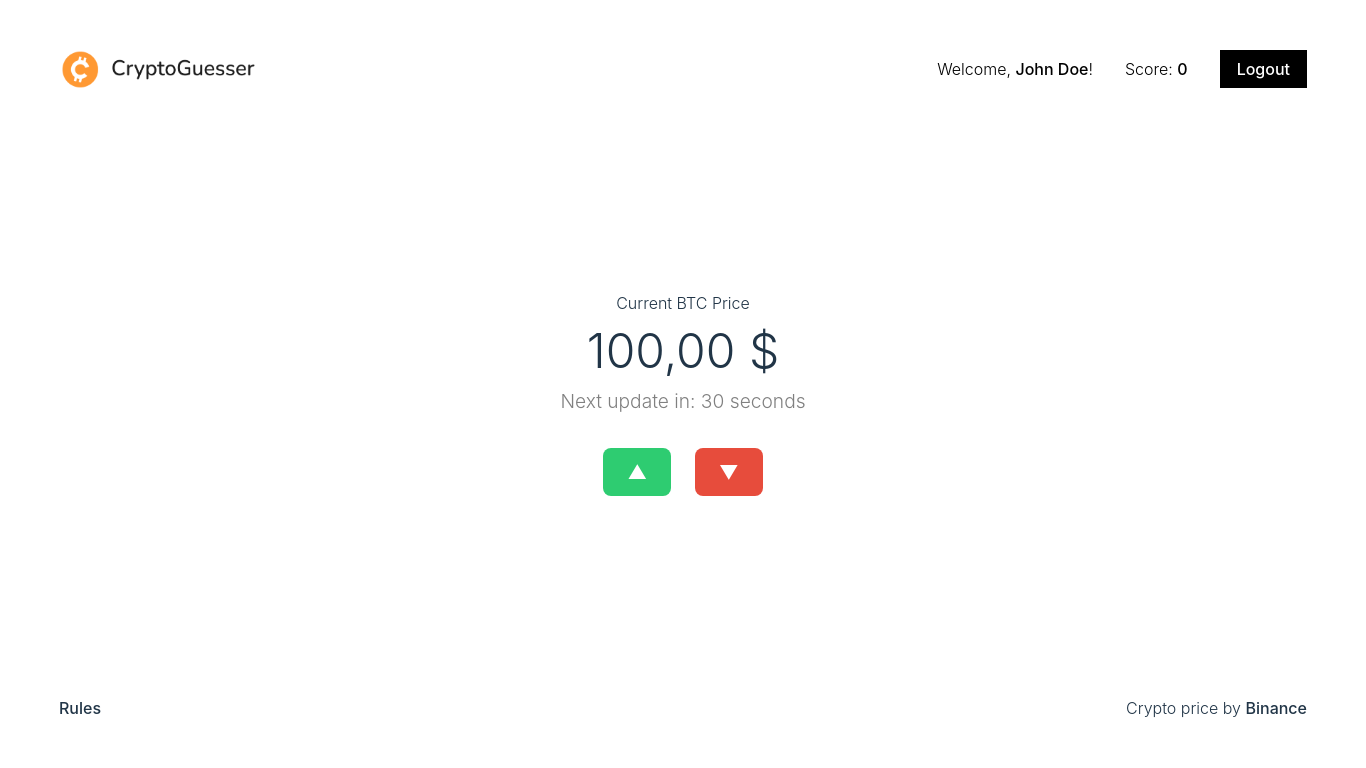
it: Game › handles timer completion and shows result
Click the button with test id "guess-up". click: (637, 472)
box: [603,448,671,496]
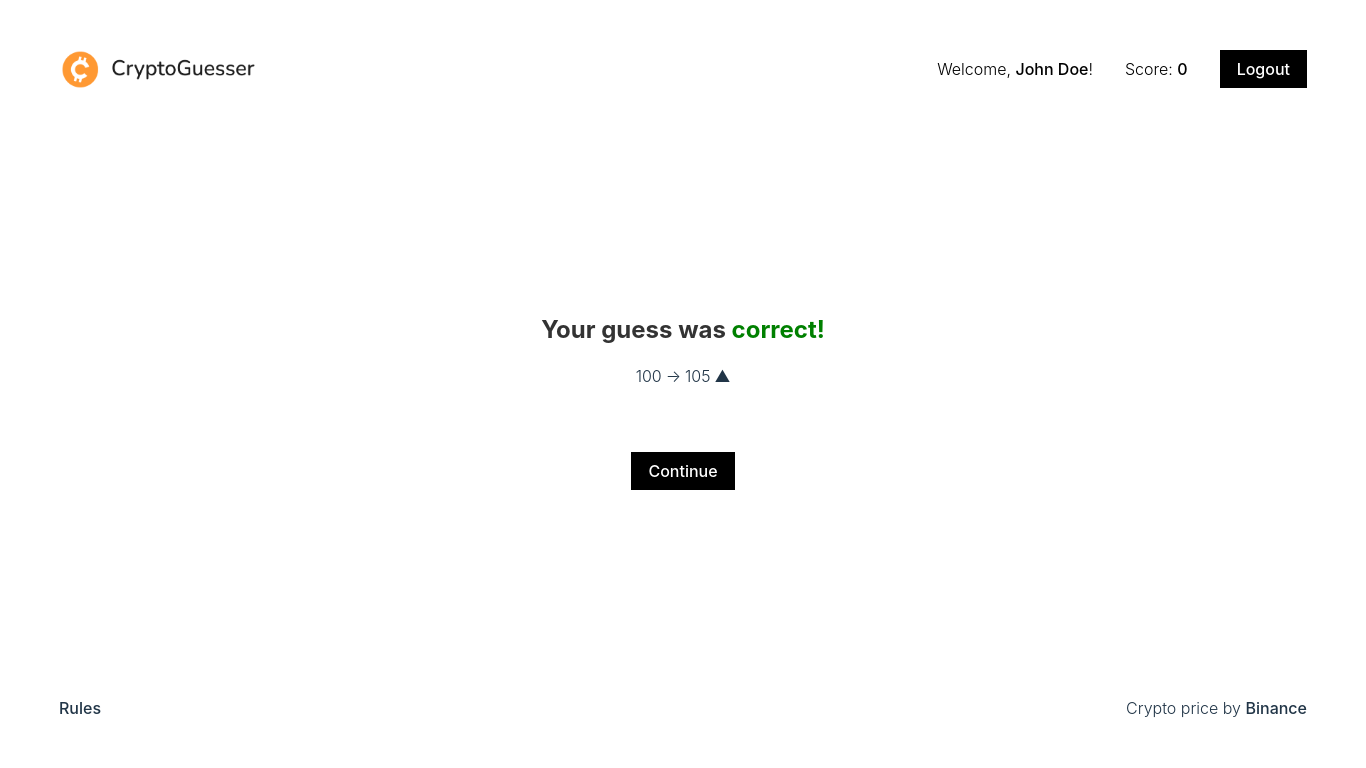
Check: the element with test id "guess-result" is shown, box [541,315,825,490]
